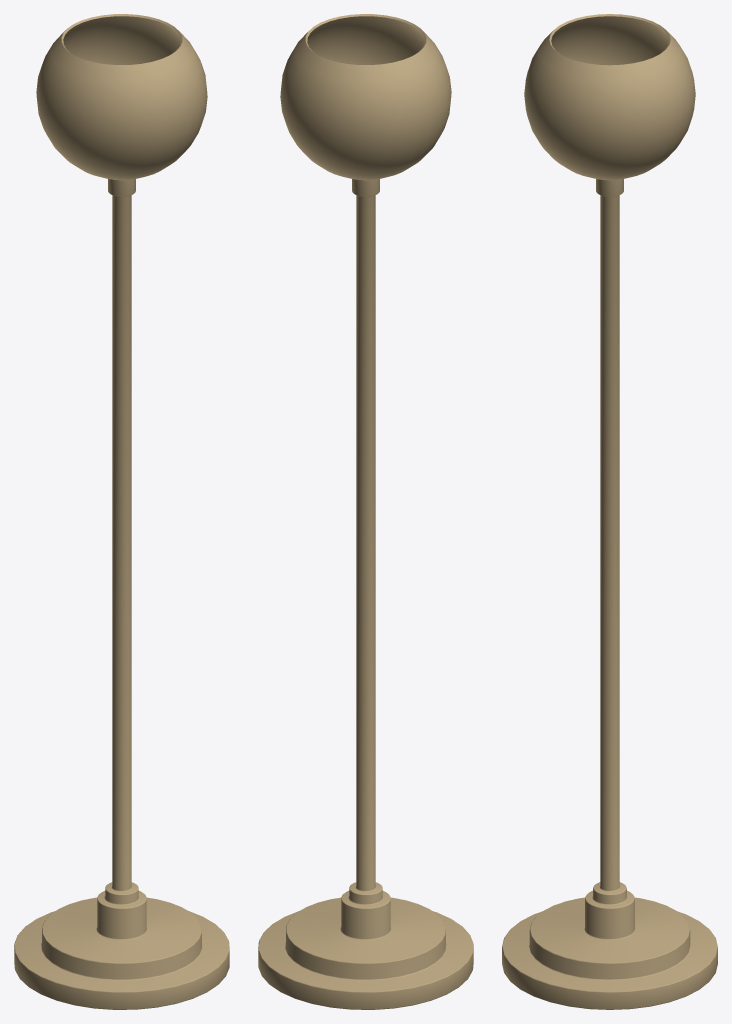
Rendered from Luminatore.glb.
The picture shows the model from 3 angles, left to right: view 1: azimuth 30°, elevation 25°; view 2: azimuth 150°, elevation 25°; view 3: azimuth 270°, elevation 25°; orthographic projection.
Parts seen in each view (by area): view 1: Sphere; view 2: Sphere; view 3: Sphere.
Boxes of the visible parts, x1=… form: Sphere: x1=14, y1=14, x2=229, y2=1009; Sphere: x1=258, y1=14, x2=473, y2=1009; Sphere: x1=502, y1=14, x2=717, y2=1009.
Bounding box in the file's own units: 0.3816 × 1.8 × 0.3816.
